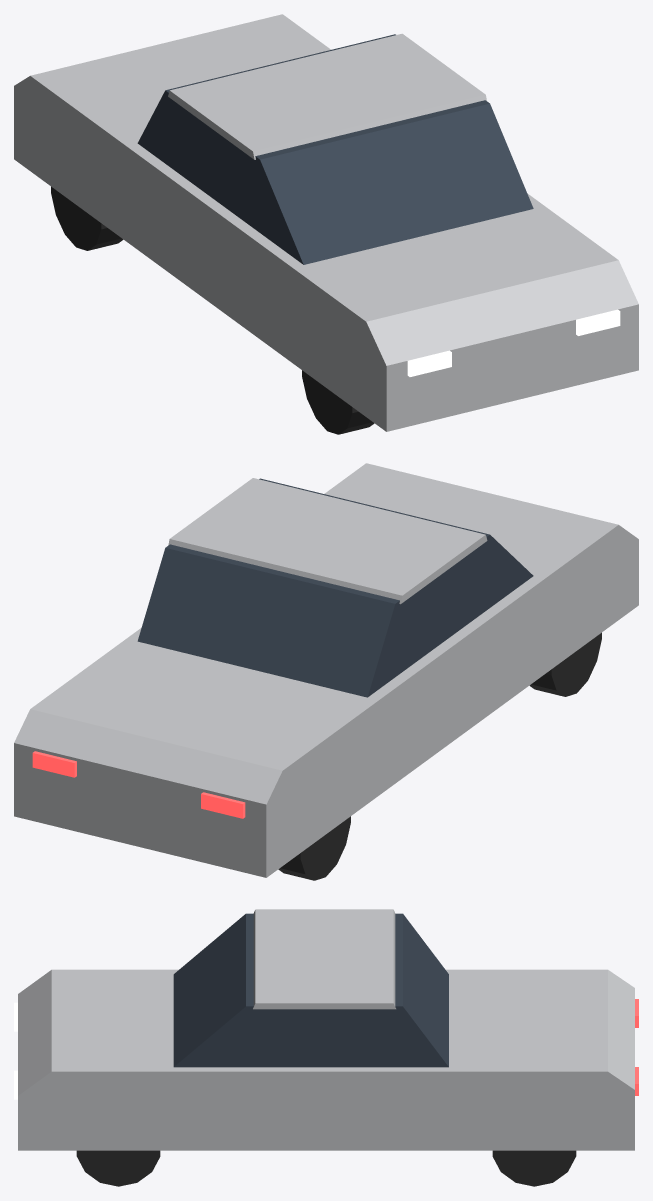
The model's file is car_sedan.glb.
3 renders of one model, top to bottom at view 1: azimuth 30°, elevation 25°; view 2: azimuth 150°, elevation 25°; view 3: azimuth 270°, elevation 25°, orthographic. The views are drawn at different scales.
Visible parts, largest first — view 1: car_sedan; view 2: car_sedan; view 3: car_sedan.
Boxes of the visible parts, x1=… form: car_sedan: x1=14, y1=14, x2=638, y2=434; car_sedan: x1=14, y1=463, x2=638, y2=880; car_sedan: x1=14, y1=909, x2=638, y2=1186.
Bounding box in the file's own units: 1.8 × 1.48 × 4.66.
